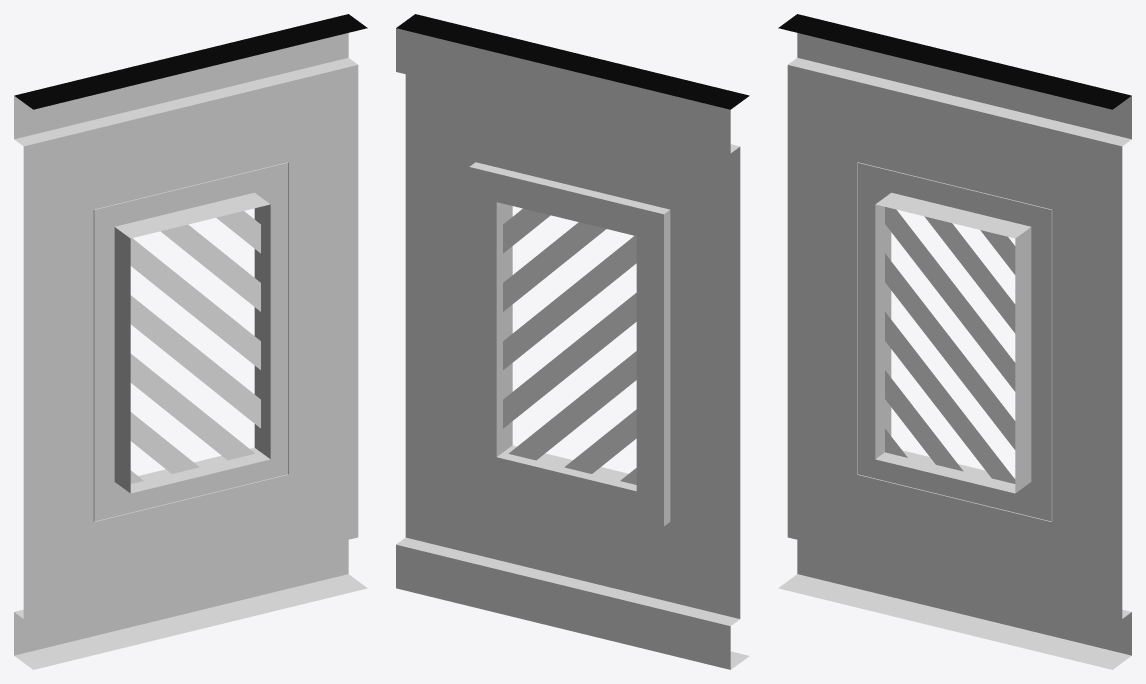
Rendered from proto_wall_windows_01.fbx.
The picture shows the model from 3 angles, left to right: view 1: azimuth 30°, elevation 25°; view 2: azimuth 150°, elevation 25°; view 3: azimuth 330°, elevation 25°; orthographic projection.
Parts seen in each view (by area): view 1: proto_wall_windows_01; view 2: proto_wall_windows_01; view 3: proto_wall_windows_01.
Boxes of the visible parts, x1,y1,x2,y2 form: proto_wall_windows_01: (14, 14, 367, 669); proto_wall_windows_01: (396, 14, 749, 669); proto_wall_windows_01: (778, 14, 1131, 669).
Size of the model in its own units: 200 by 320 by 20.
